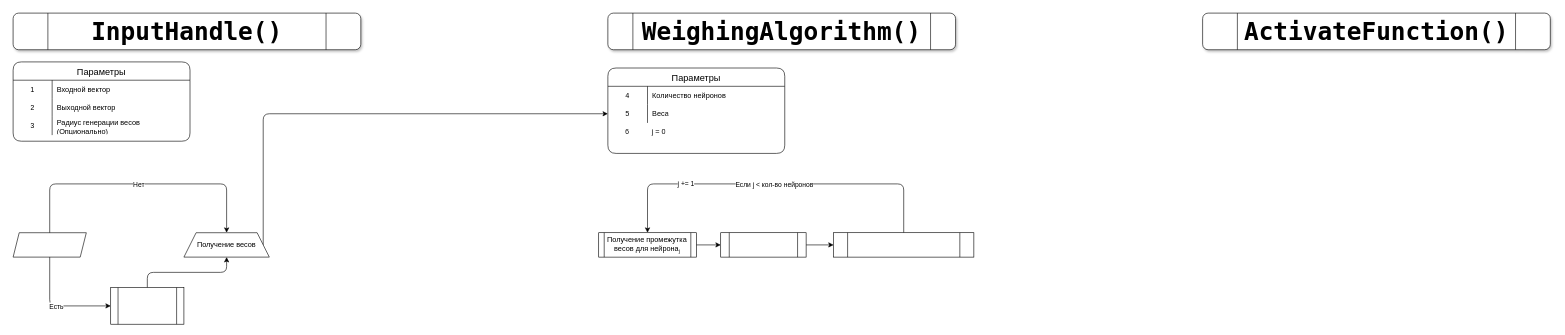
The diagram is 1565 pixels wide and 335 high, and some of its shapes have lost their labels. Each missing label, with the centre of its shape:
Генерация весов: pixel 147 305
Извлечение весов для нейрона: pixel 763 244
Нейрон = Сумма(Веса * Входной вектор): pixel 903 244
Радиус генерации весов: pixel 49 244
